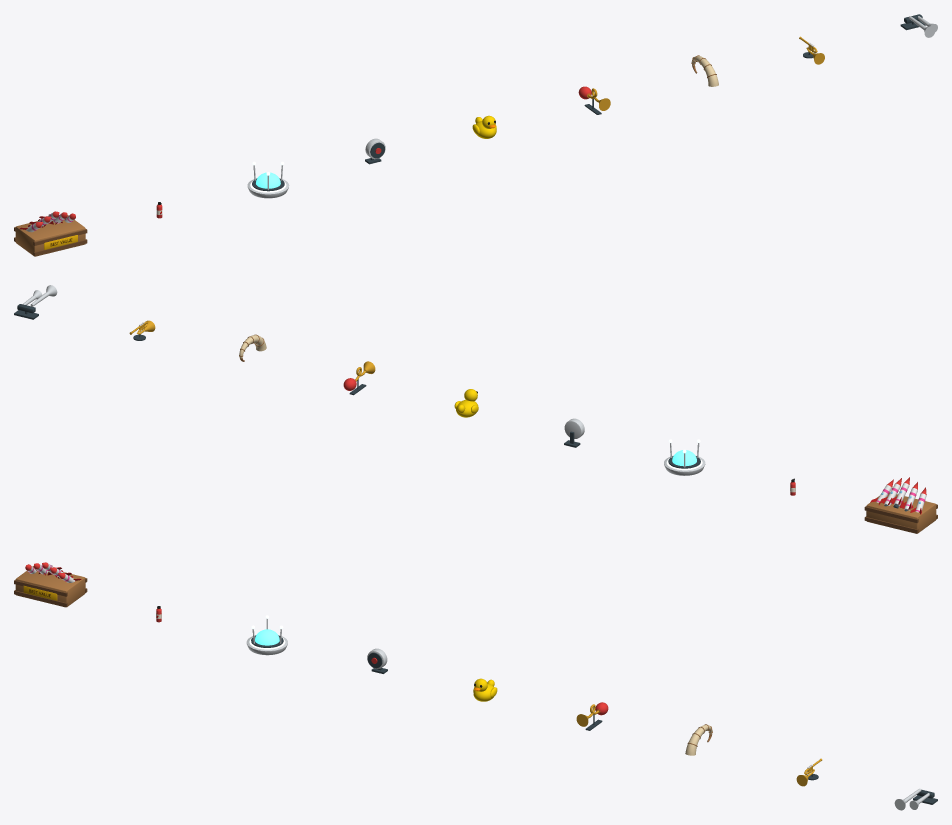
Rendered from garage_items.glb.
The picture shows the model from 3 angles, top to bottom: view 1: azimuth 30°, elevation 25°; view 2: azimuth 150°, elevation 25°; view 3: azimuth 330°, elevation 25°; orthographic projection.
Parts seen in each view (by area): view 1: MegaPack, Shield; view 2: MegaPack, Shield, HornTrain; view 3: MegaPack, Shield.
Boxes of the visible parts, x1,y1,x2,y2 form: MegaPack: [14, 211, 87, 256]; Shield: [247, 161, 288, 198]; MegaPack: [864, 477, 937, 533]; Shield: [664, 439, 705, 475]; HornTrain: [14, 285, 57, 319]; MegaPack: [14, 562, 87, 607]; Shield: [246, 615, 287, 655].
Size of the model in its own units: 16.67 by 0.7123 by 0.84.
